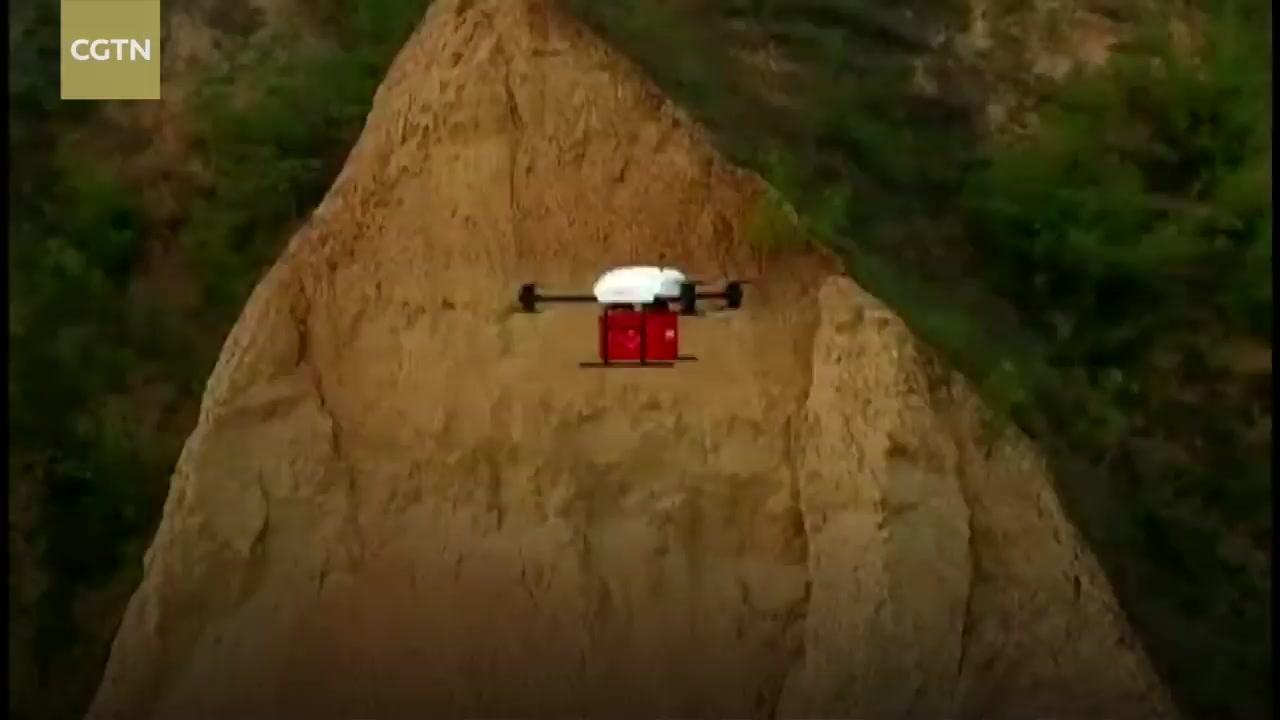UAV: (518, 267, 753, 317)
